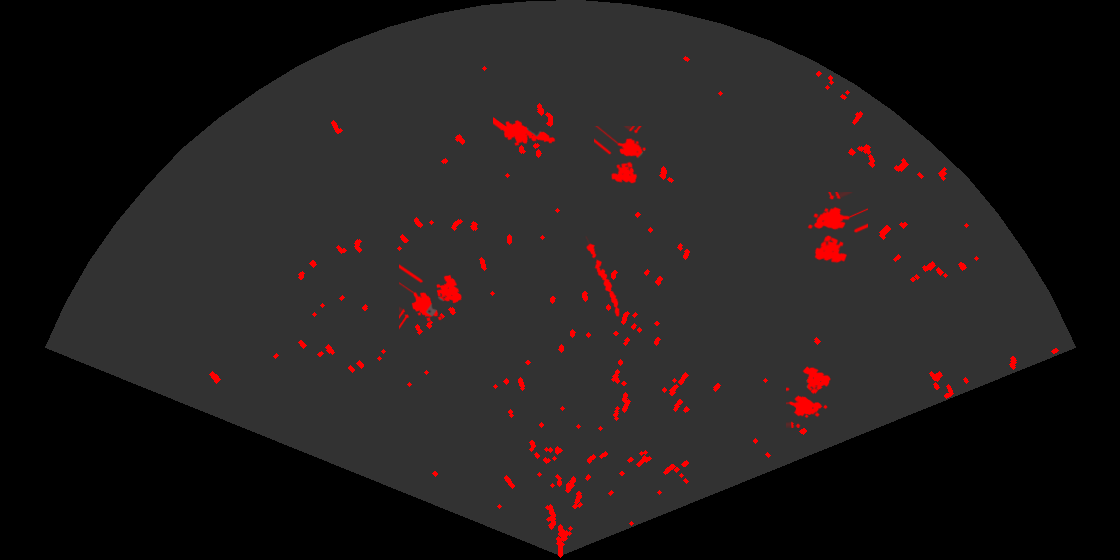cage: (806, 192, 868, 265), (399, 263, 463, 331), (594, 126, 648, 185), (786, 365, 832, 428)
chain: (584, 236, 621, 319)
frogman: (493, 116, 557, 148)
